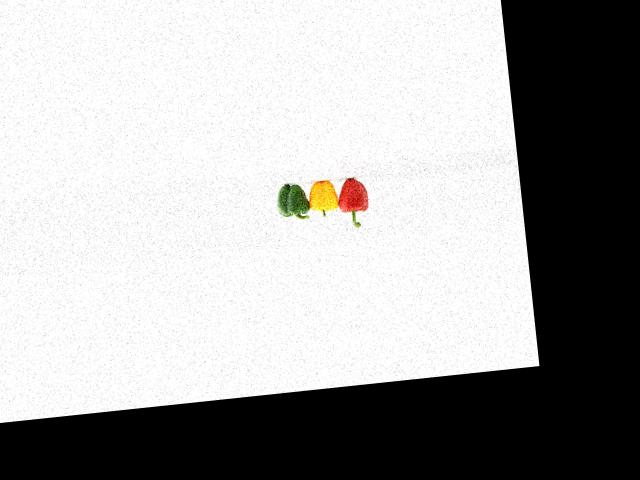bell_pepper: (332, 170, 380, 232)
